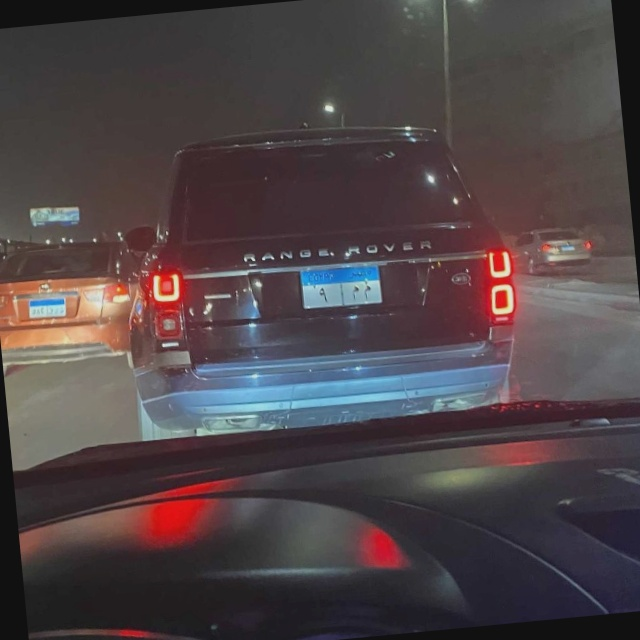License Plate: (24, 293, 69, 321)
